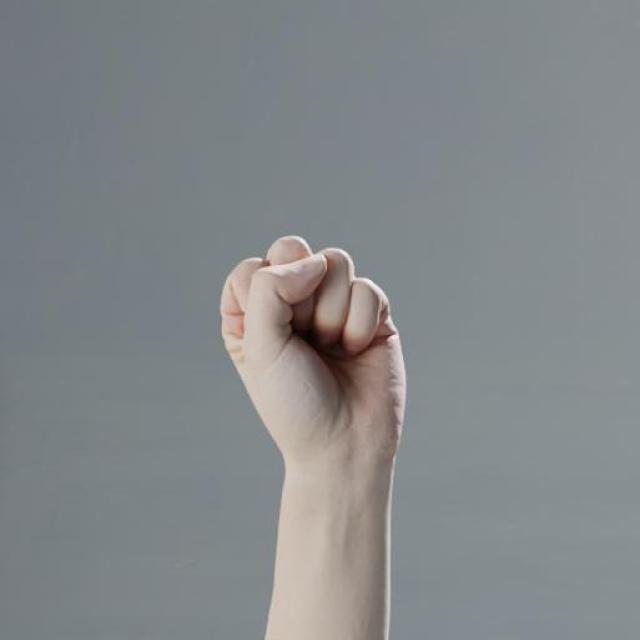S: (212, 229, 413, 473)
